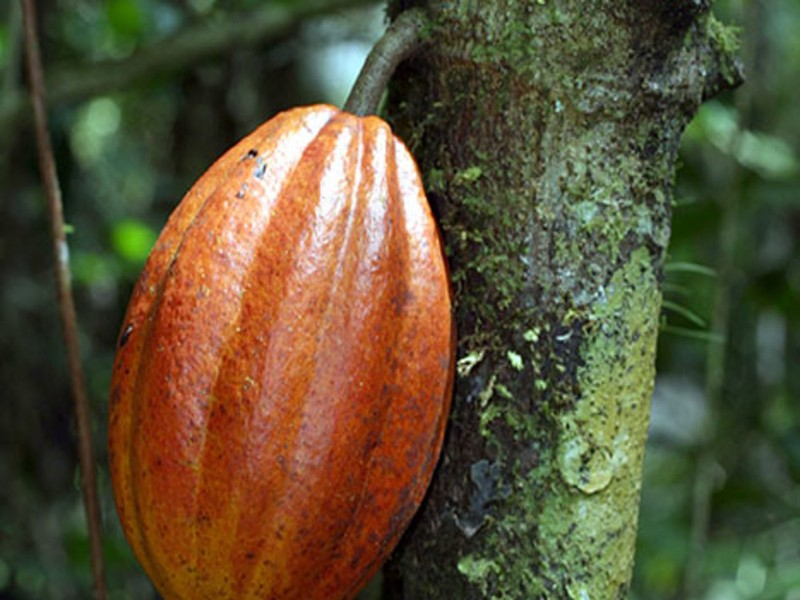Cacaopod: (107, 100, 456, 592)
